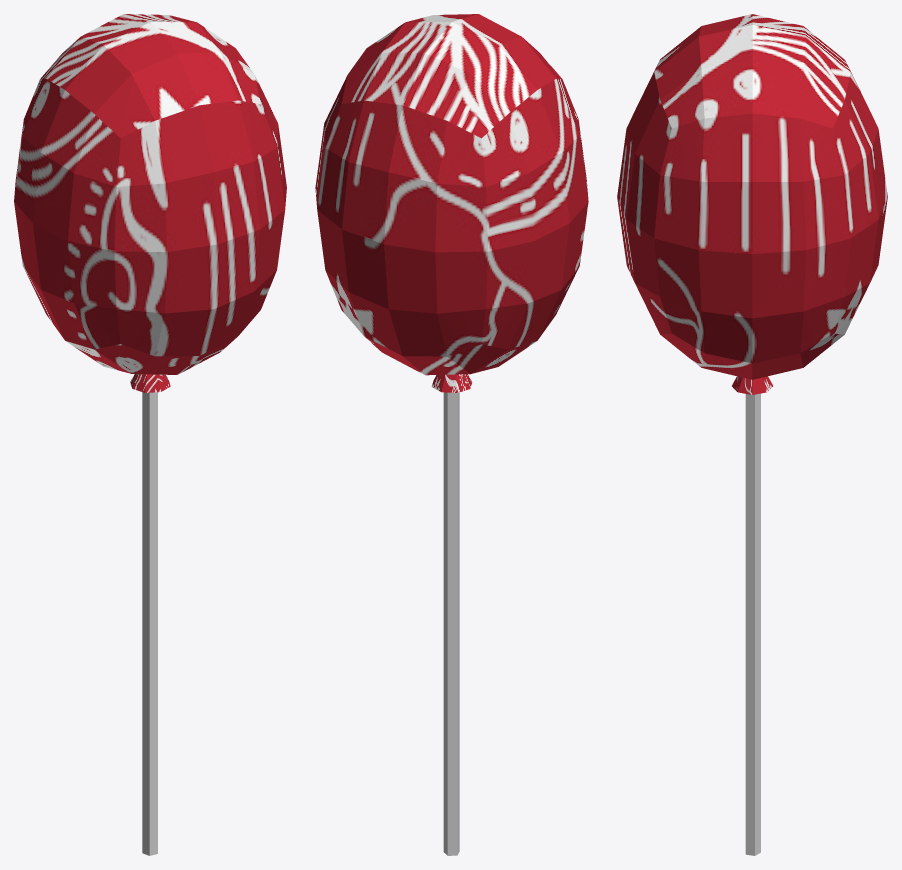
Rendered from Balon Batik Merah.fbx.
The picture shows the model from 3 angles, left to right: view 1: azimuth 30°, elevation 25°; view 2: azimuth 150°, elevation 25°; view 3: azimuth 270°, elevation 25°; orthographic projection.
Parts seen in each view (by area): view 1: Cylinder.007; view 2: Cylinder.007; view 3: Cylinder.007.
Boxes of the visible parts, left/top/right/bottom form: Cylinder.007: left=14, top=14, right=286, bottom=855; Cylinder.007: left=315, top=14, right=588, bottom=855; Cylinder.007: left=617, top=14, right=887, bottom=855.
Bounding box in the file's own units: 41.45 × 140 × 41.45.
2 materials, 1 textured.
